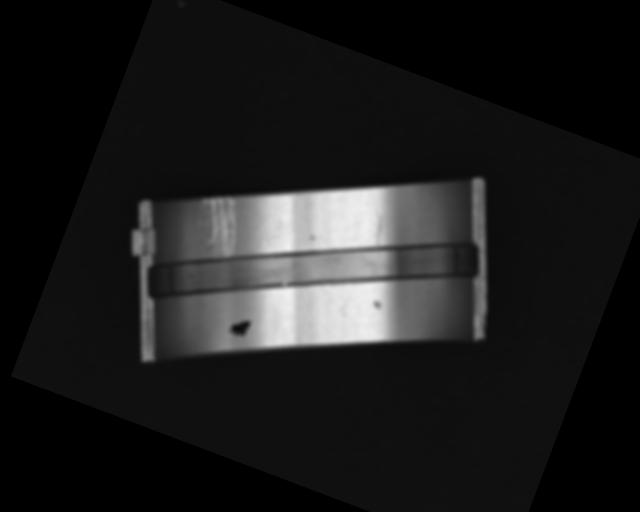blot: (226, 313, 253, 340)
bruise: (372, 299, 383, 309), (309, 235, 315, 242)
gap: (141, 139, 489, 403)
nick: (361, 204, 392, 248)
scratch: (185, 188, 250, 260)
